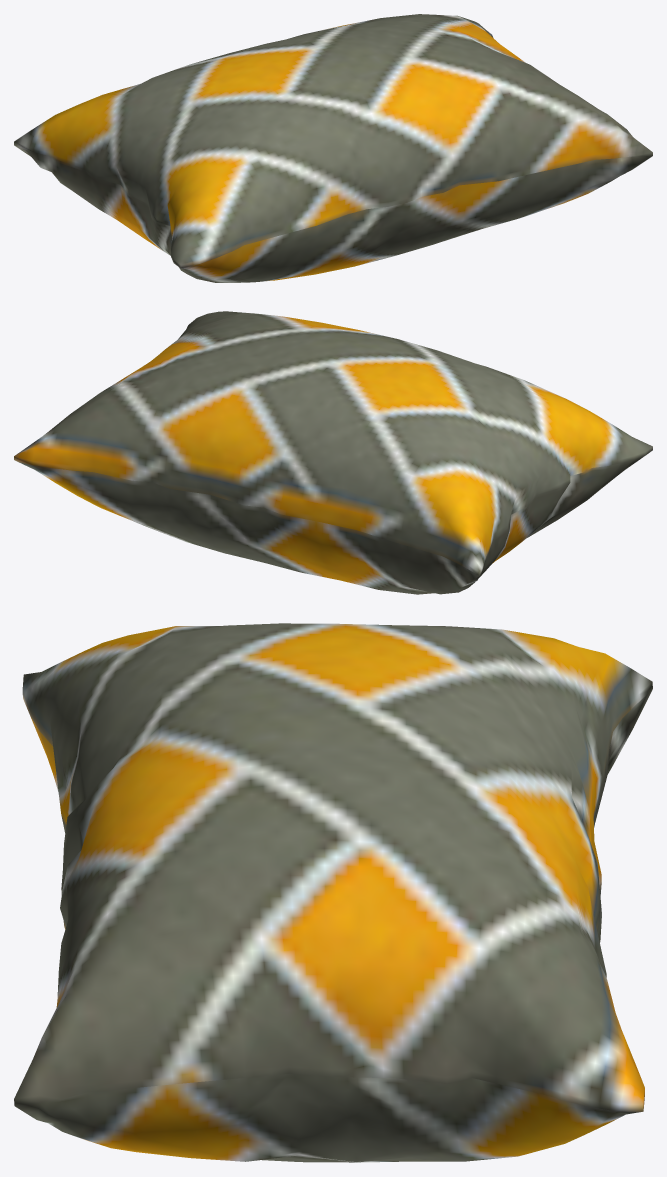
The model's file is yusuf_tufted3_.fbx.
3 renders of one model, top to bottom at view 1: azimuth 30°, elevation 25°; view 2: azimuth 150°, elevation 25°; view 3: azimuth 270°, elevation 25°, orthographic. The views are drawn at different scales.
Parts seen in each view (by area): view 1: Yusuf Tufted Upholstered Low Profile Standard Bed.003; view 2: Yusuf Tufted Upholstered Low Profile Standard Bed.003; view 3: Yusuf Tufted Upholstered Low Profile Standard Bed.003.
Boxes of the visible parts, x1,y1,x2,y2 form: Yusuf Tufted Upholstered Low Profile Standard Bed.003: (14,14,652,282); Yusuf Tufted Upholstered Low Profile Standard Bed.003: (14,311,652,594); Yusuf Tufted Upholstered Low Profile Standard Bed.003: (14,623,652,1162).
Size of the model in its own units: 0.7399 by 0.2962 by 0.4692.
